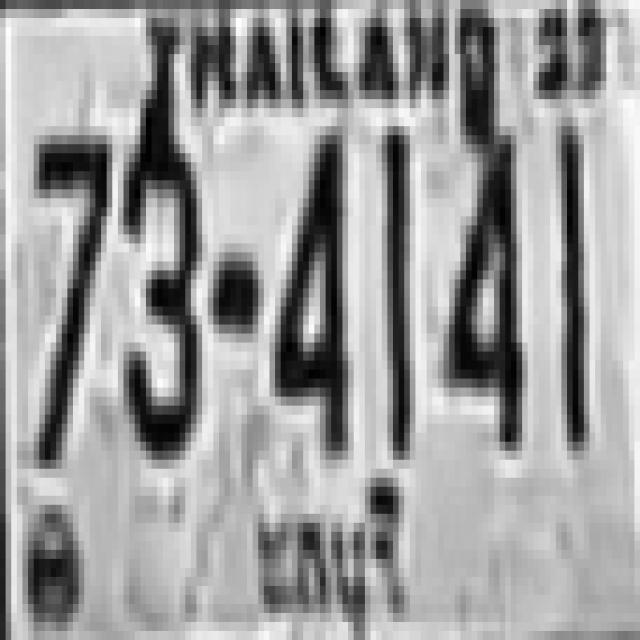1: (556, 122, 584, 446), (382, 126, 404, 424)
3: (118, 117, 196, 451)
4: (438, 95, 516, 437), (270, 122, 342, 446)
7: (28, 126, 107, 460)
Chonburi: (236, 479, 414, 639)
